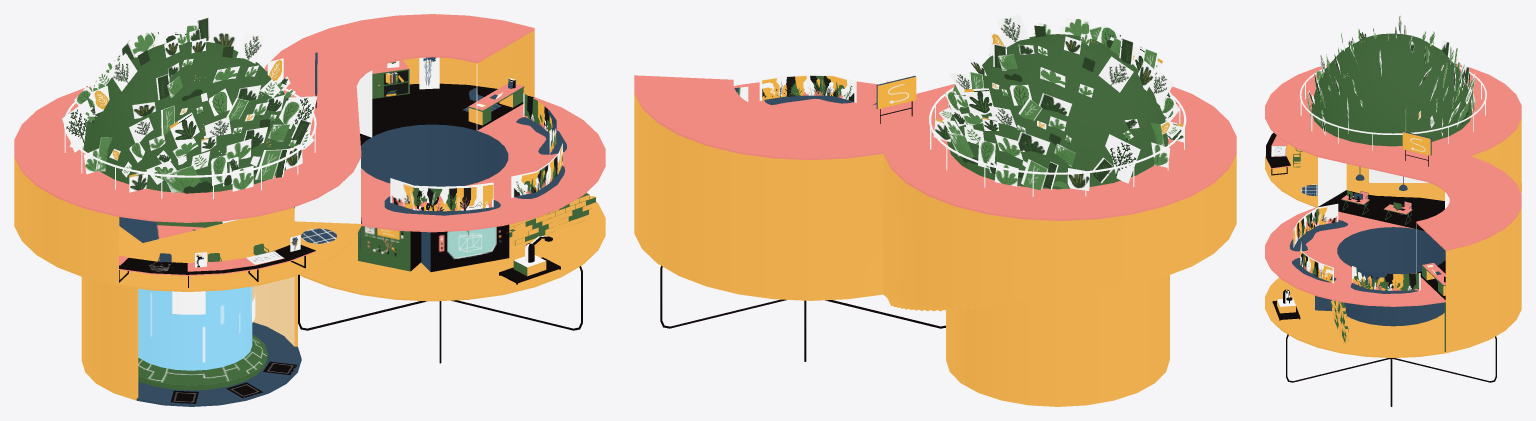
Rendered from 建筑楼.fbx.
The picture shows the model from 3 angles, left to right: view 1: azimuth 30°, elevation 25°; view 2: azimuth 150°, elevation 25°; view 3: azimuth 270°, elevation 25°; orthographic projection. The views are drawn at different scales.
Visible parts, largest first — view 1: Cylinder_1, plant, Cylinder_2, Cube_1, Plane_2, Cube, Tube_1, glass_2, Cube_2_49_1, Plane_6_2, Circle_sweep_1, Cube_3_2 (+9 smaller); view 2: Cylinder_1, plant, Plane_1, Circle_sweep_1, Cube_4; view 3: Cylinder_1, plant, Plane_2_2, glass_2, Plane_2, Circle_sweep_1, Cube_4, Plane_1, Tube_1, Extrude, Cube_2_49_1, Plane_6_2 (+3 smaller).
Boxes of the visible parts, <box> form: Cylinder_1: <box>14,14,605,406</box>; plant: <box>62,17,317,193</box>; Cylinder_2: <box>138,286,252,370</box>; Cube_1: <box>421,224,509,271</box>; Plane_2: <box>390,178,493,211</box>; Cube: <box>358,226,421,271</box>; Tube_1: <box>119,245,316,287</box>; glass_2: <box>294,158,360,223</box>; Cube_2_49_1: <box>509,193,595,245</box>; Plane_6_2: <box>119,217,240,242</box>; Circle_sweep_1: <box>64,88,316,199</box>; Cube_3_2: <box>372,60,409,98</box>; Cylinder_1: <box>634,34,1236,406</box>; plant: <box>933,14,1183,190</box>; Plane_1: <box>759,74,856,102</box>; Circle_sweep_1: <box>929,87,1186,196</box>; Cube_4: <box>876,76,916,123</box>; Cylinder_1: <box>1265,33,1521,406</box>; plant: <box>1307,14,1475,136</box>; Plane_2_2: <box>1352,266,1420,291</box>; glass_2: <box>1318,157,1346,206</box>; Plane_2: <box>1293,203,1338,247</box>; Circle_sweep_1: <box>1299,65,1486,150</box>; Cube_4: <box>1402,131,1431,166</box>; Plane_1: <box>1300,242,1333,283</box>; Tube_1: <box>1266,132,1290,175</box>; Extrude: <box>1289,220,1347,251</box>; Cube_2_49_1: <box>1330,300,1349,345</box>; Plane_6_2: <box>1369,169,1428,182</box>.
Size of the model in its own units: 2897 by 1635 by 1592.
